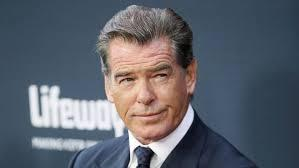normalEye: (109, 60, 175, 86)
